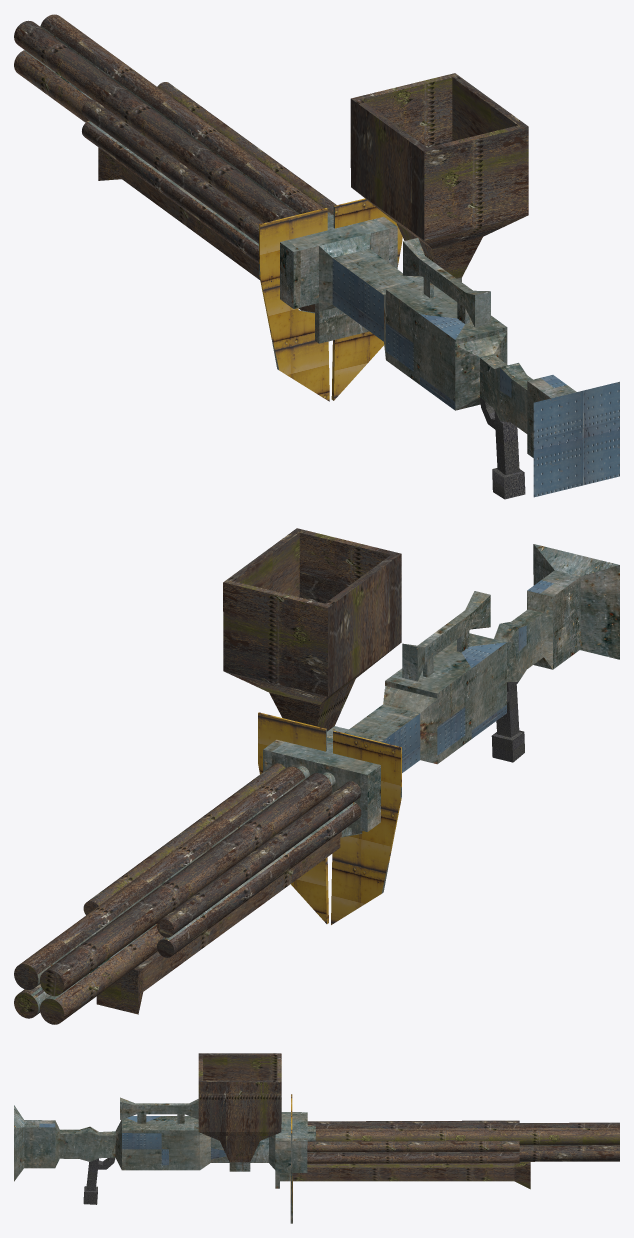
Rendered from machine_gun.fbx.
The picture shows the model from 3 angles, top to bottom: view 1: azimuth 30°, elevation 25°; view 2: azimuth 150°, elevation 25°; view 3: azimuth 270°, elevation 25°; orthographic projection. The views are drawn at different scales.
Visible parts, largest first — view 1: Cube; view 2: Cube; view 3: Cube.
Boxes of the visible parts, x1,y1,x2,y2 form: Cube: (14, 14, 619, 499); Cube: (14, 528, 619, 1024); Cube: (14, 1053, 619, 1223).
Bounding box in the file's own units: 2659 × 4168 × 13246.
